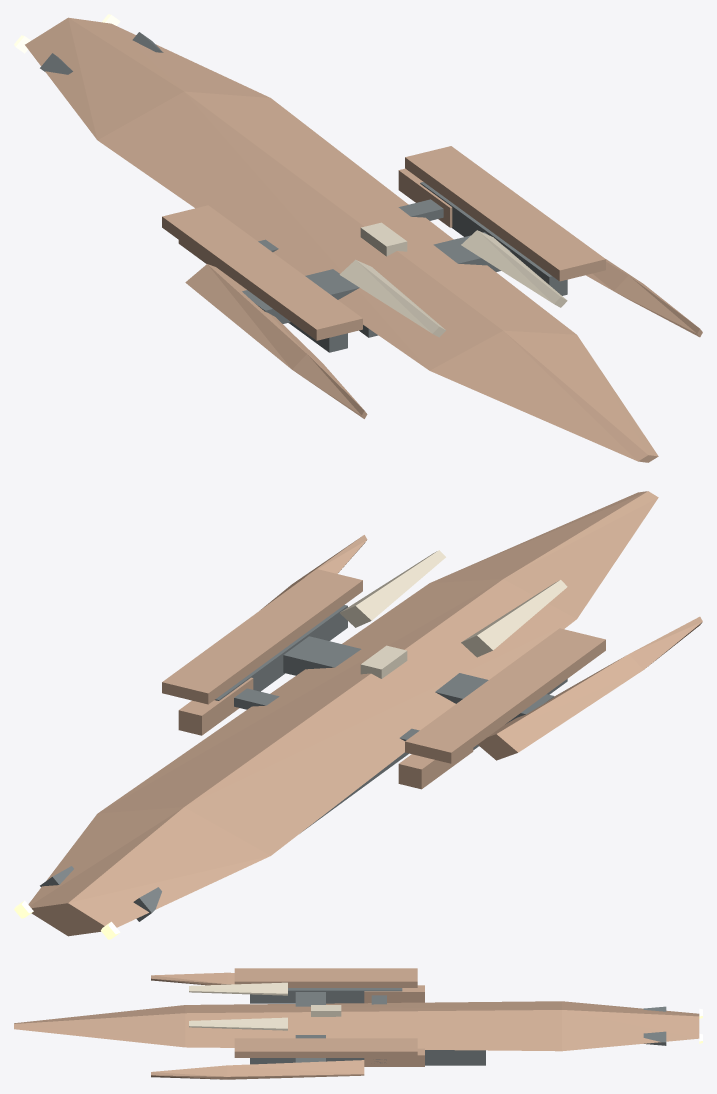
3 renders of one model, top to bottom at view 1: azimuth 30°, elevation 25°; view 2: azimuth 150°, elevation 25°; view 3: azimuth 270°, elevation 25°, orthographic. The views are drawn at different scales.
Size of the model in its own units: 6.99 by 1.78 by 20.09.
